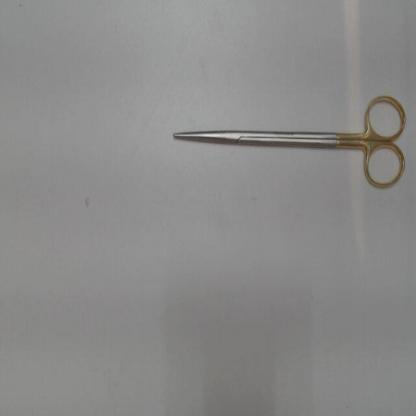7 Metzenbaum Scissors: (173, 92, 407, 192)
